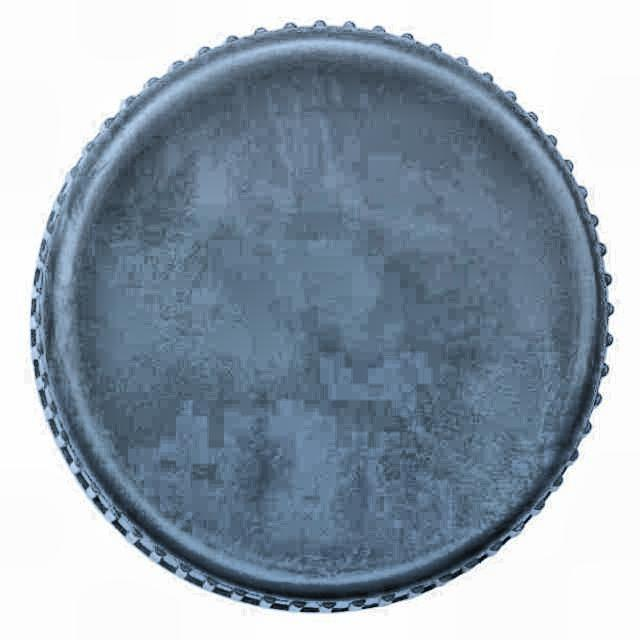plastic: (27, 23, 615, 617)
